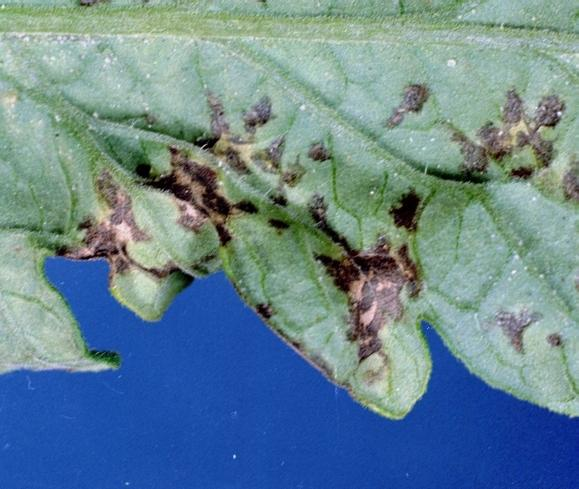Tomato leaf bacterial spot: (0, 0, 579, 403)
